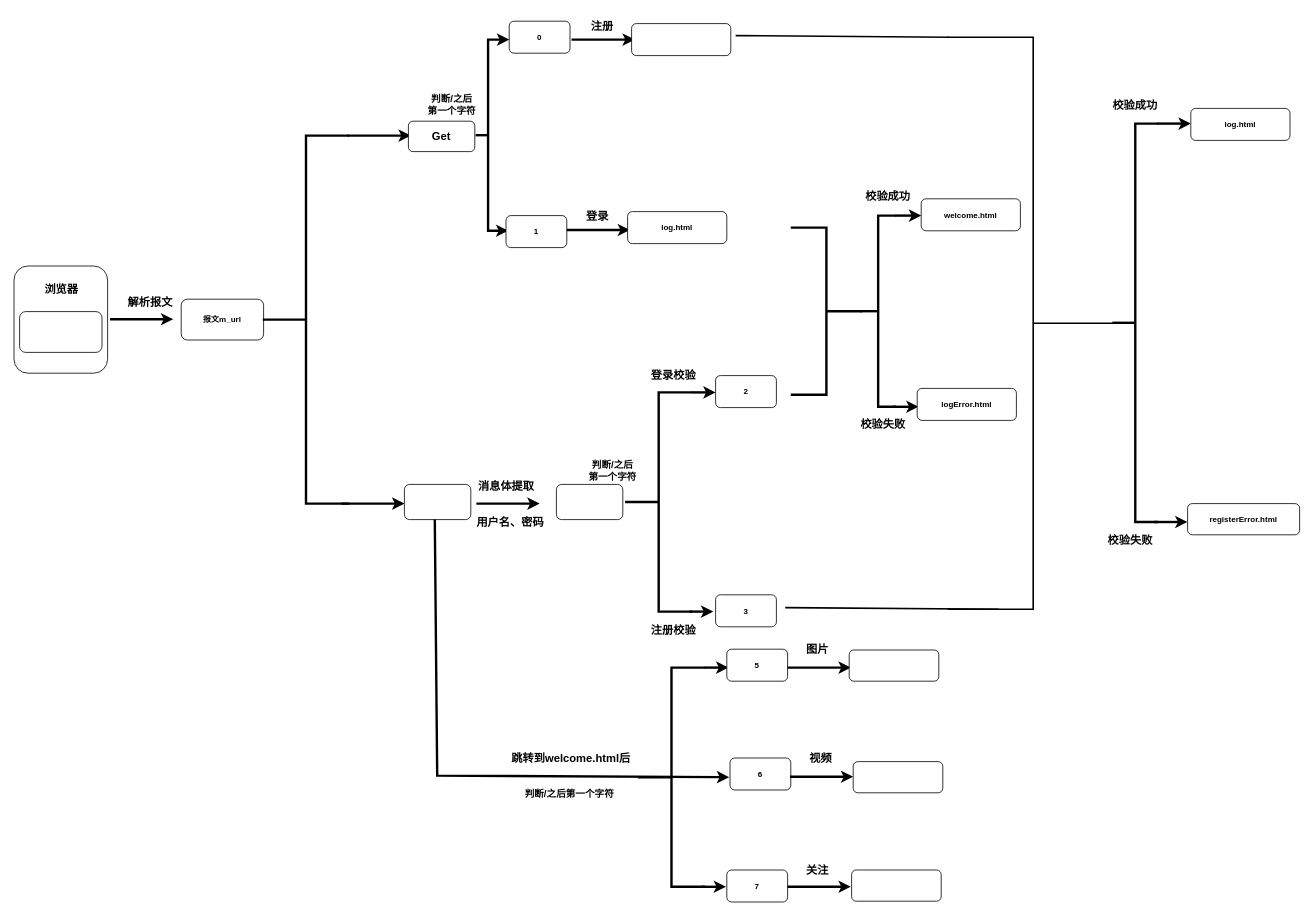
Some shapes in this 1314 by 916 pixel diagram are drawn without their labels. The shapes that lost their labels are listed below. From the top down, each one's box as (x1, y1, x2, y2) in pixels, then its label:
(631, 23, 731, 56): register.html
(19, 311, 102, 352): http请求报文
(404, 484, 471, 520): Post
(556, 484, 623, 520): username passwd
(848, 649, 939, 681): picture.html
(852, 761, 943, 793): vedio.html
(851, 869, 941, 901): fans.html
